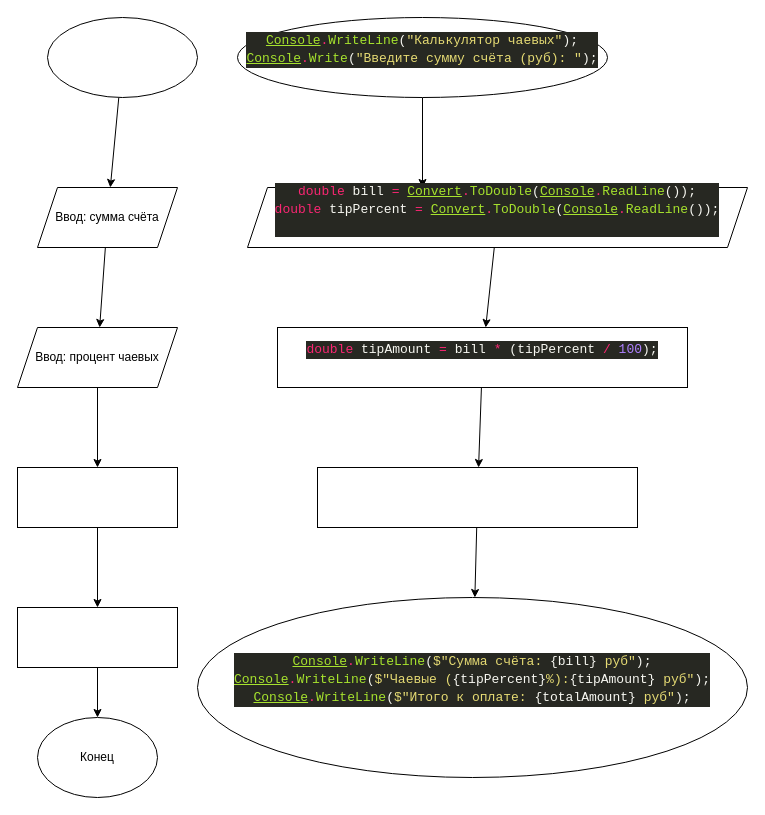
Image size: 765x815. Some labels were removed from this diagram. The centre of each missing label's shape, as x and y in pixels:
"double totalAmount = bill + tipAmount ;" belongs at point (477, 497).
"Вычисление: итого = счёт + чаевые" belongs at point (97, 637).
"Вычисление: чаевые = счёт х процент / 100" belongs at point (97, 497).
"Начало" belongs at point (122, 57).
